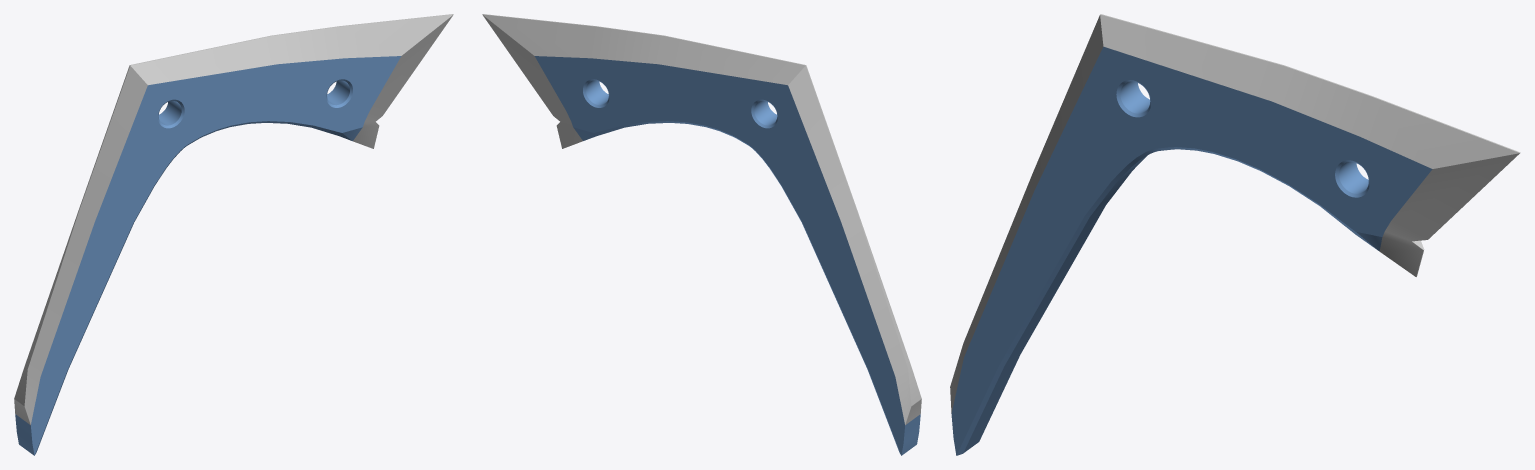
The model's file is boomerang.obj.
3 renders of one model, left to right at view 1: azimuth 30°, elevation 25°; view 2: azimuth 150°, elevation 25°; view 3: azimuth 330°, elevation 25°, orthographic. The views are drawn at different scales.
Visible parts, largest first — view 1: Boole.1; view 2: Boole.1; view 3: Boole.1.
Boxes of the visible parts, box(x1,y1,x2,y2) form: Boole.1: box(14, 14, 453, 455); Boole.1: box(482, 14, 921, 455); Boole.1: box(950, 14, 1520, 455).
Size of the model in its own units: 30 by 23.75 by 1.87.
